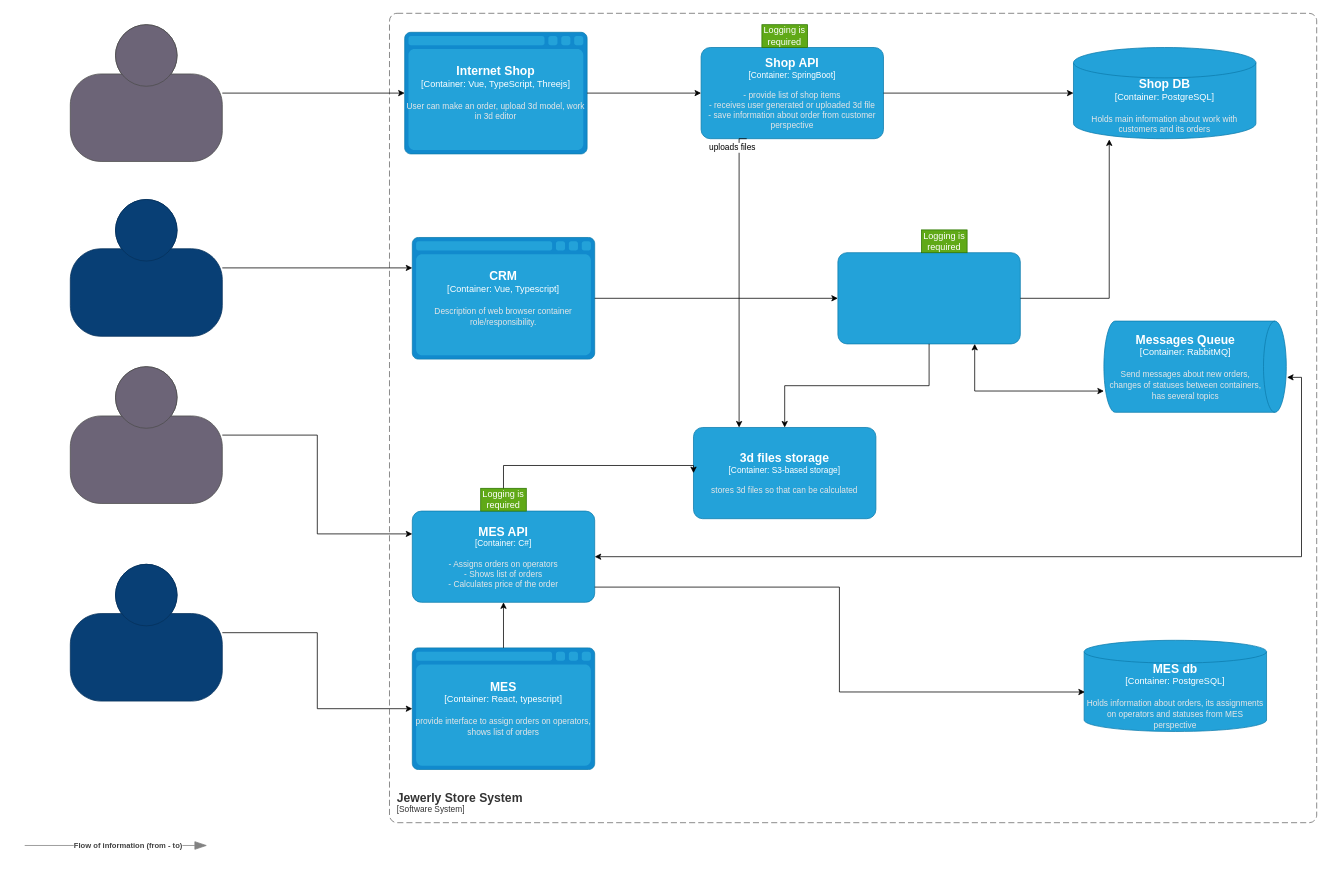
The diagram is 1330 pixels wide and 871 high, and some of its shapes have lost their labels. The shapes that lost their labels are listed below. From the top down, each one's centre as x and y in pixels, then its label:
At pixel 146 93: "Customer [Person] Description of external person.".
At pixel 146 267: "Seller [Person] Operates with order, confirms manufacturing for the user".
At pixel 928 298: "CRM API [Container: SpringBoot] Description of container role/responsibility.".
At pixel 146 435: "API user [Person] Description of external person.".
At pixel 146 632: "Operator [Person] Takes order in work, manufactures jewerly".
